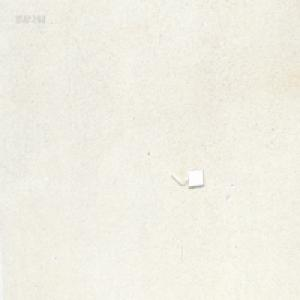LuggageTag: (169, 168, 204, 189)
